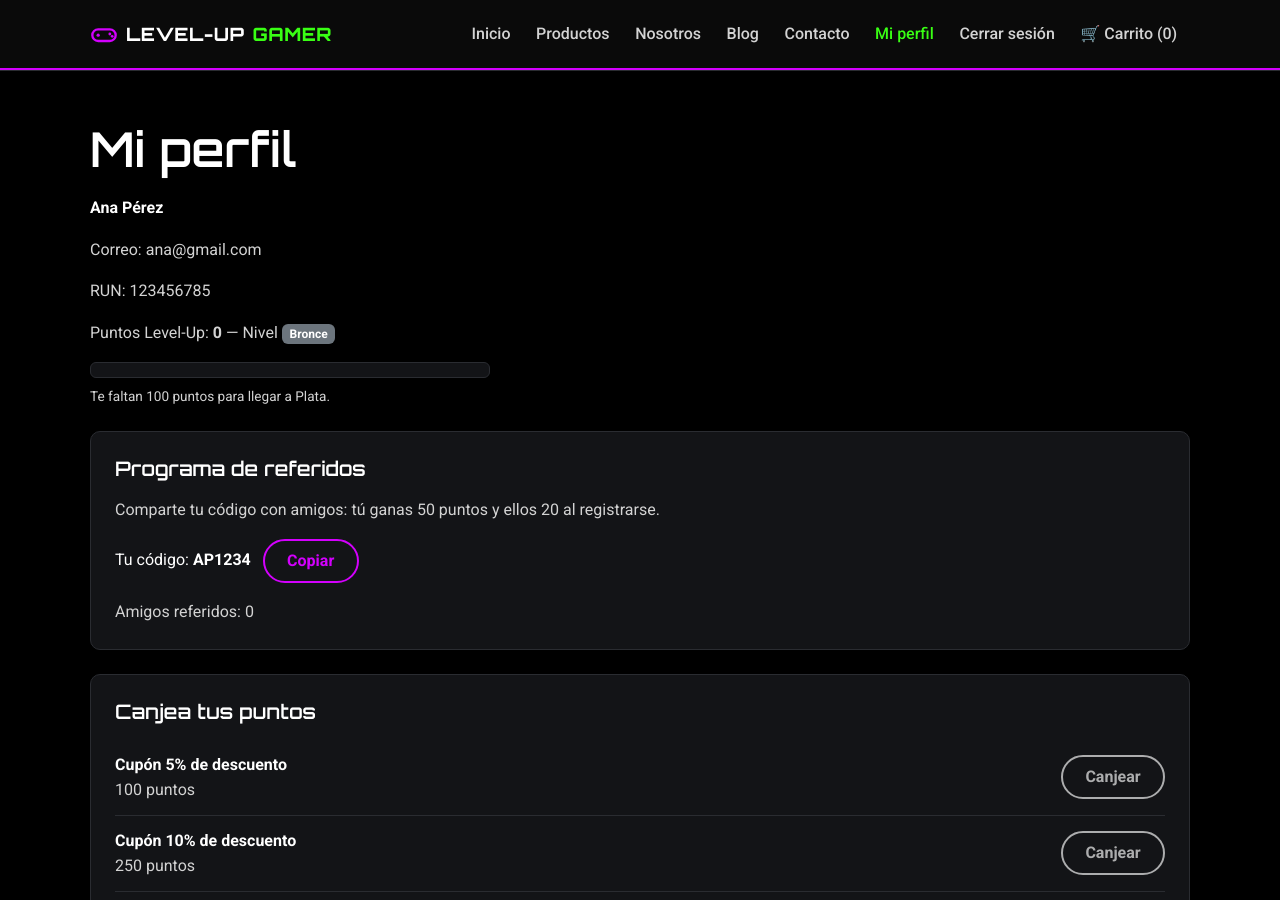
Test: <Perfil /> (perfil, fidelización y edición de datos) › si el portapapeles falla, avisa que no se pudo copiar
Click the button "Copiar": click(311, 561) [263, 539, 359, 583]
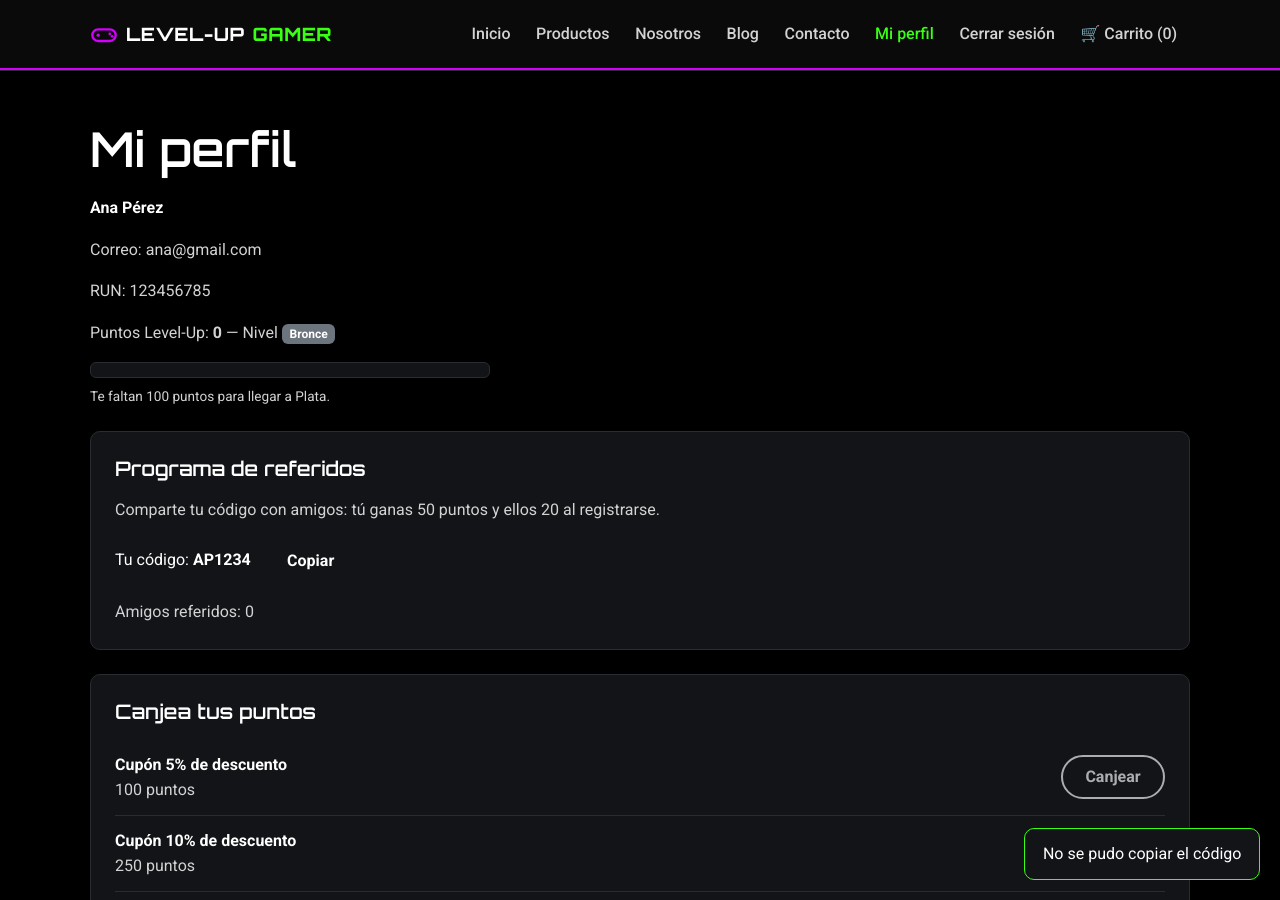
expect the text "No se pudo copiar el código" is shown: met, box [1024, 828, 1260, 880]
